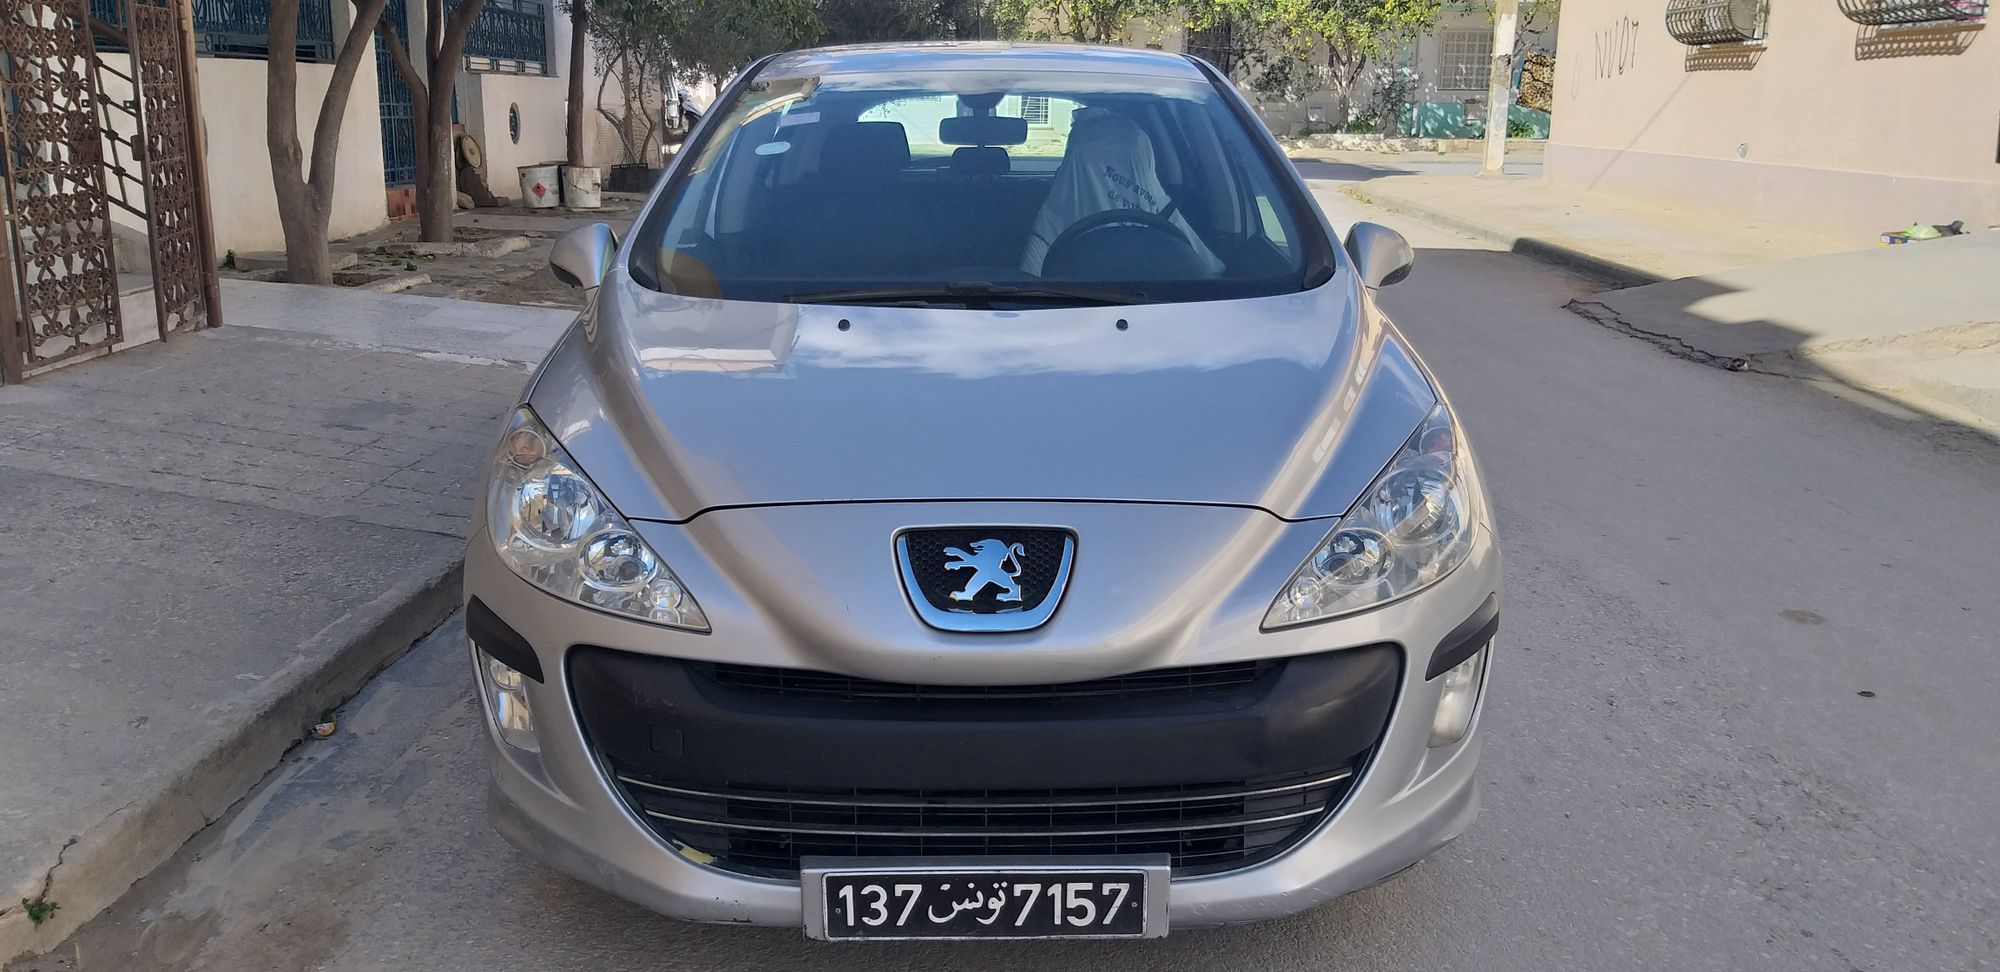LP: (821, 867, 1149, 937)
